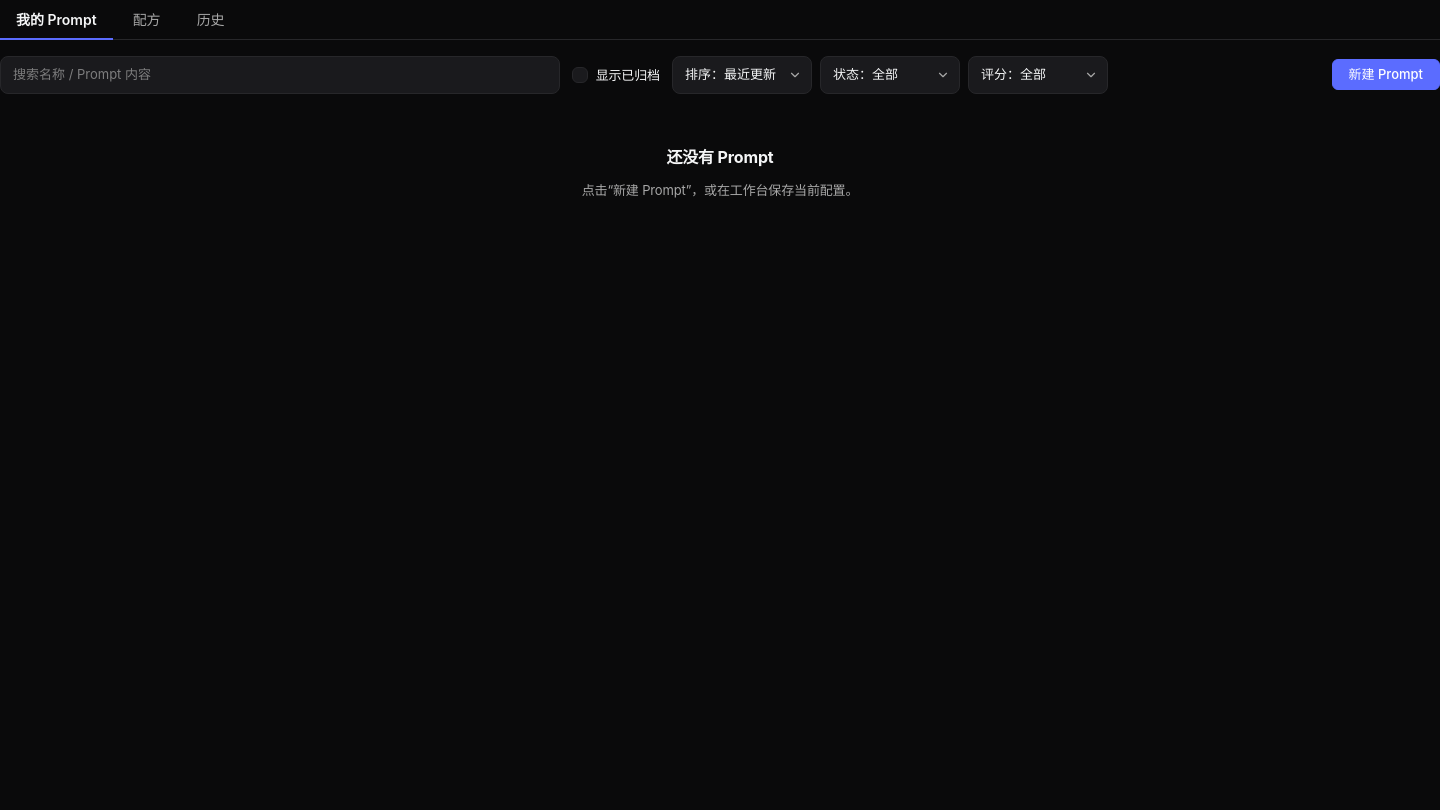
Test: PromptPage 提示词中心 › 点击新建 Prompt 打开编辑抽屉
Check: the heading "还没有 Prompt" is shown, box [666,146,774,166]
Click the button "新建 Prompt". click: (1386, 75)
box: [1332,59,1439,90]
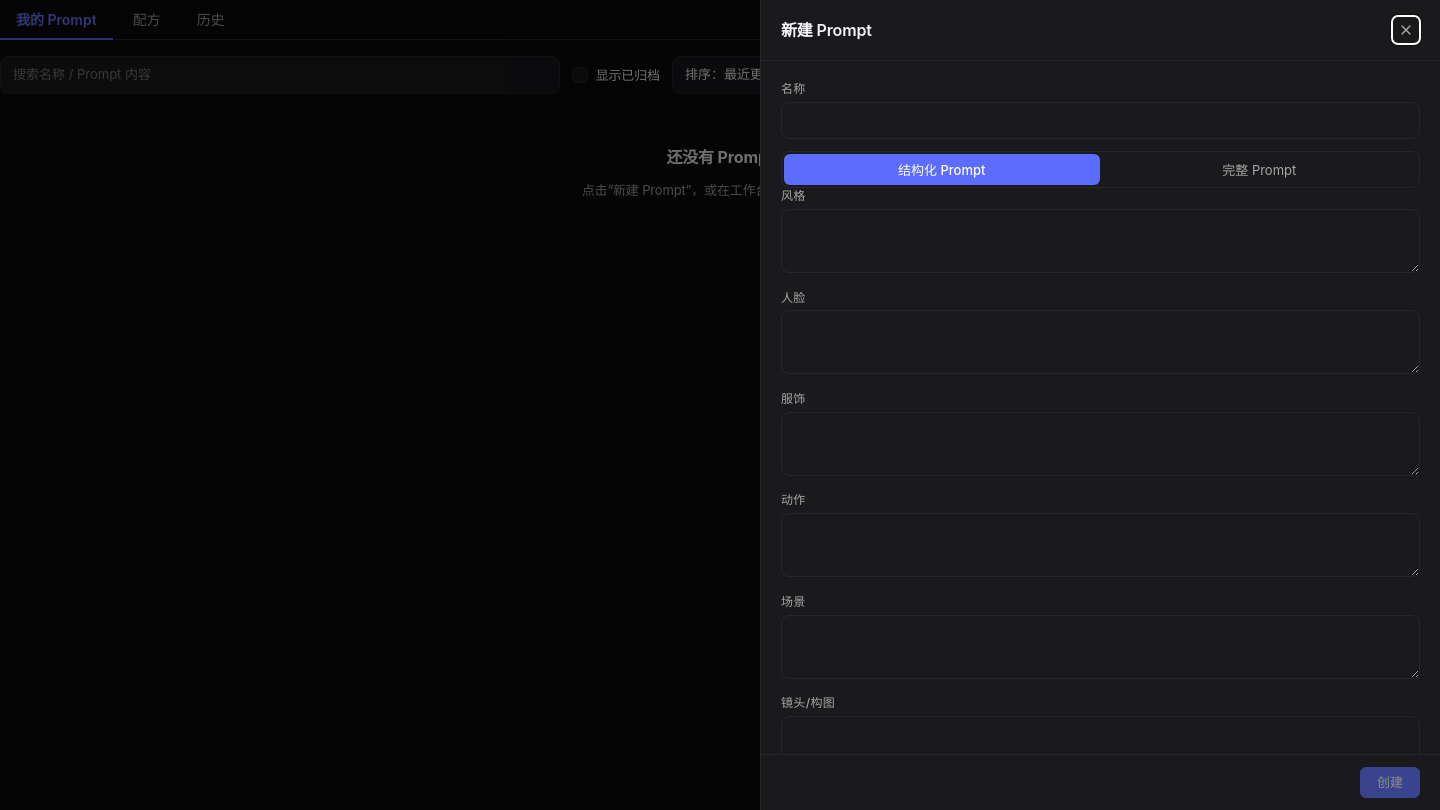
Check: the button "创建" is shown, box [1360,767,1420,798]
